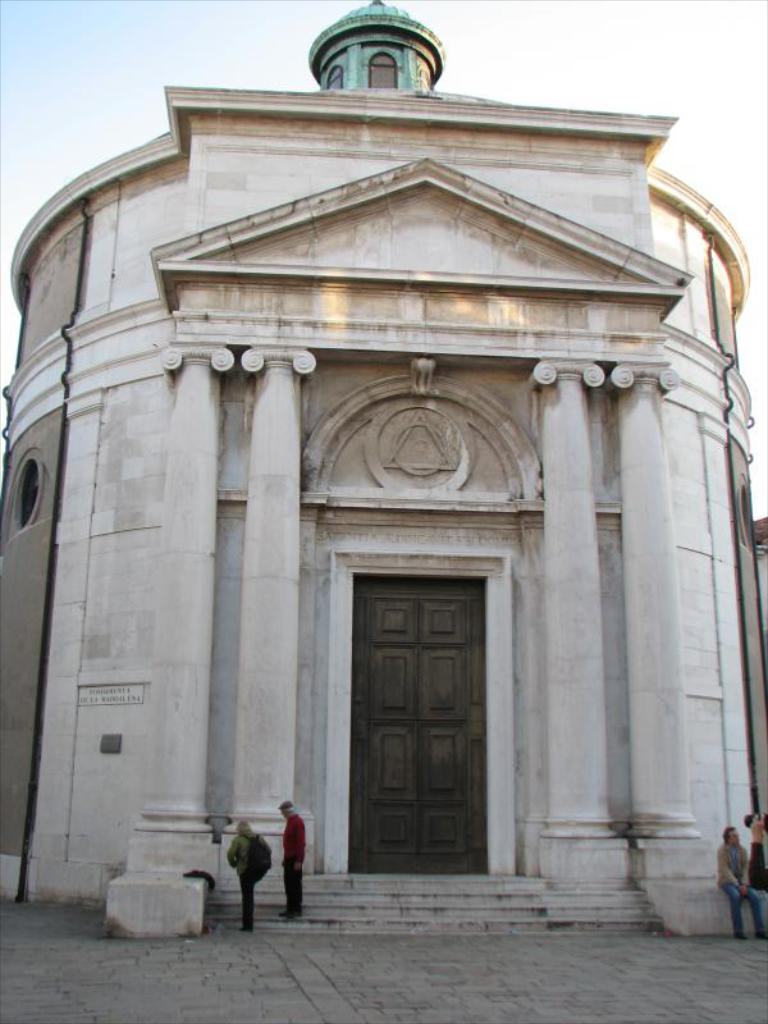door: (419, 603, 476, 858), (361, 600, 413, 855)
